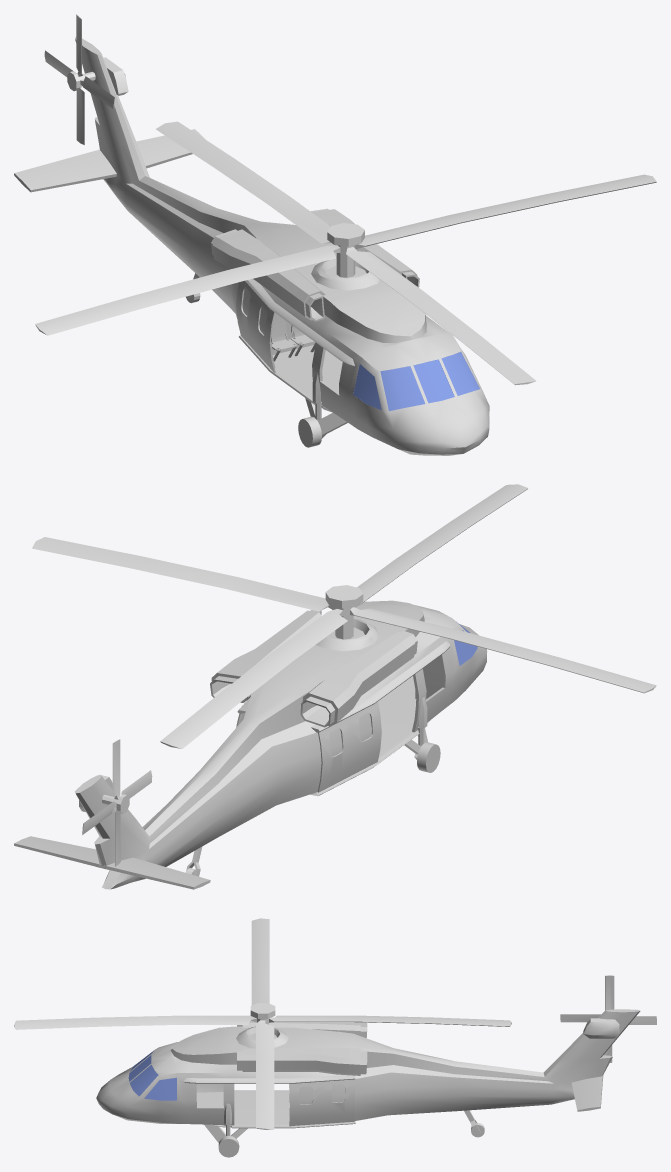
Rendered from blackhawk.fbx.
3 views of the same model, one above another, from view 1: azimuth 30°, elevation 25°; view 2: azimuth 150°, elevation 25°; view 3: azimuth 270°, elevation 25° (orthographic). The views are drawn at different scales.
Parts seen in each view (by area): view 1: Blackhawk, Rotor, Tail Rotor, Rotor Center; view 2: Blackhawk, Rotor, Tail Rotor, Rotor Center; view 3: Blackhawk, Rotor, Tail Rotor, Cube, Rotor Center.
Part boxes in pixels (x1,y1,x2,y2): Blackhawk: [14, 37, 489, 455]; Rotor: [35, 121, 656, 385]; Tail Rotor: [44, 14, 114, 144]; Rotor Center: [327, 223, 364, 277]; Blackhawk: [14, 600, 487, 889]; Rotor: [32, 484, 656, 748]; Tail Rotor: [82, 739, 152, 866]; Rotor Center: [325, 585, 363, 639]; Blackhawk: [96, 1009, 640, 1157]; Rotor: [14, 918, 511, 1129]; Tail Rotor: [560, 975, 656, 1062]; Cube: [583, 1018, 619, 1038]; Rotor Center: [250, 1003, 275, 1024].
Bounding box in the file's own units: 19.33 × 6.61 × 24.96.
